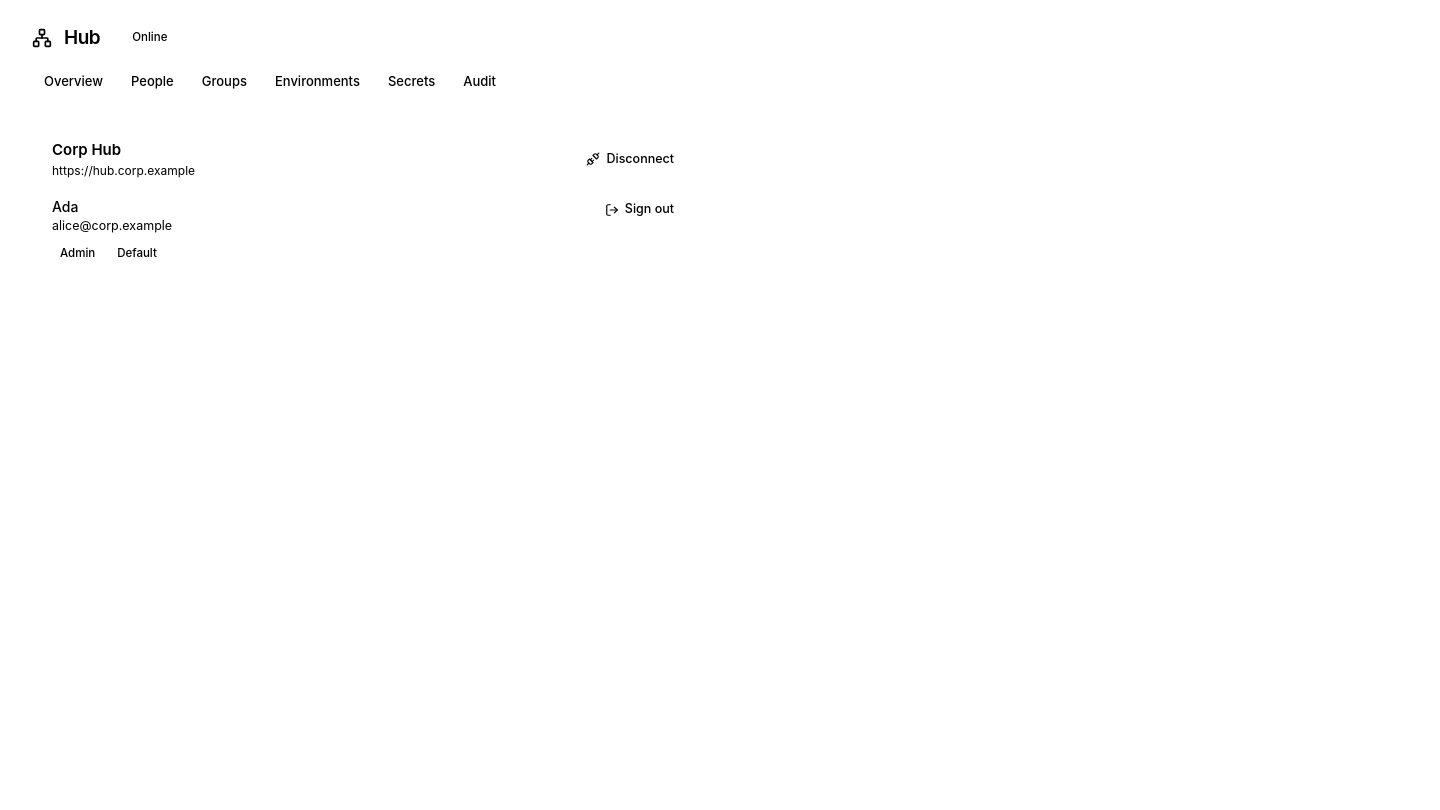
Test case: HubPage › a last_group 409 surfaces its message
The width and height of the screenshot is (1440, 810).
Click the tab "Groups": (224, 82) x1=190 y1=64 x2=259 y2=100
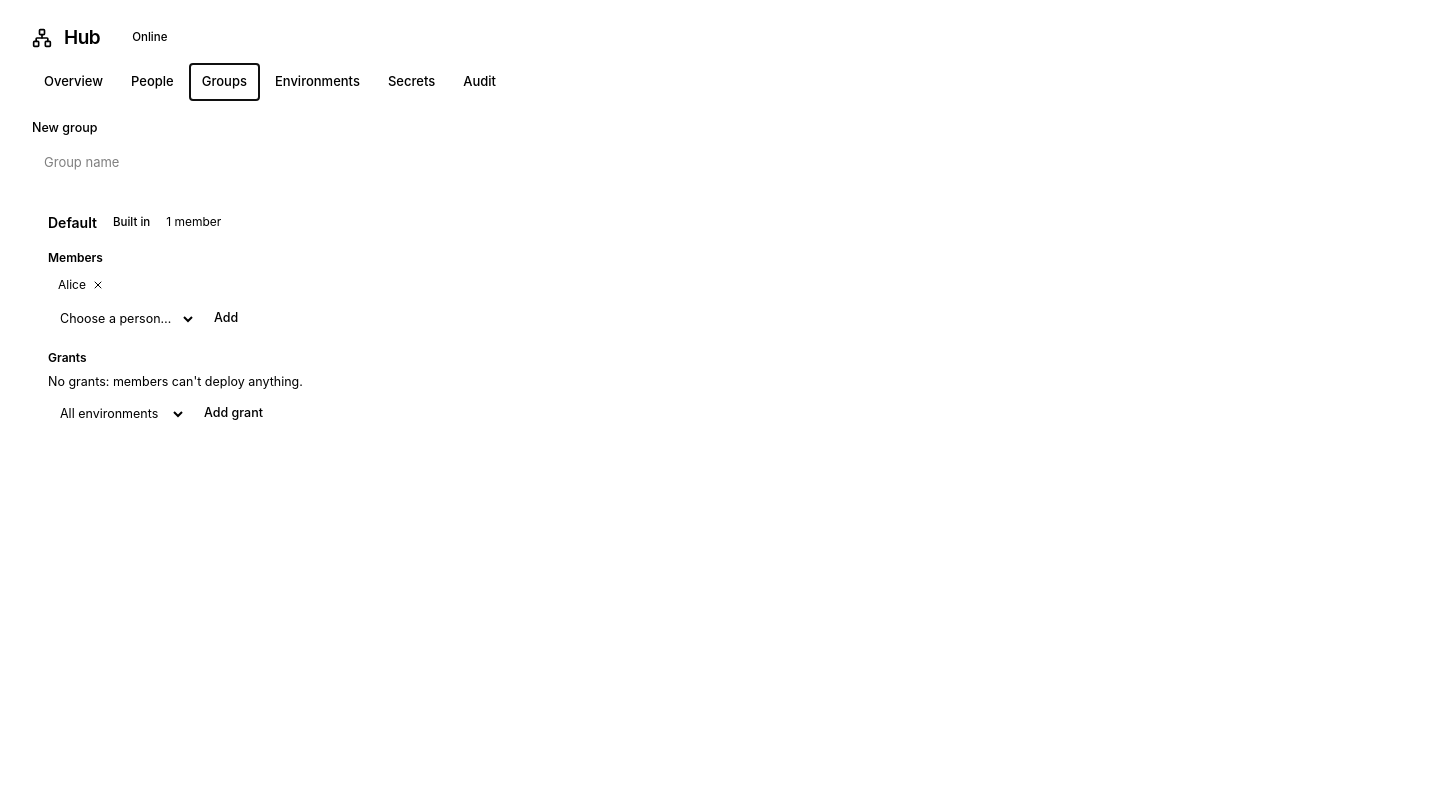
Click the button named "Remove Alice from Default": (98, 285) x1=90 y1=277 x2=106 y2=293
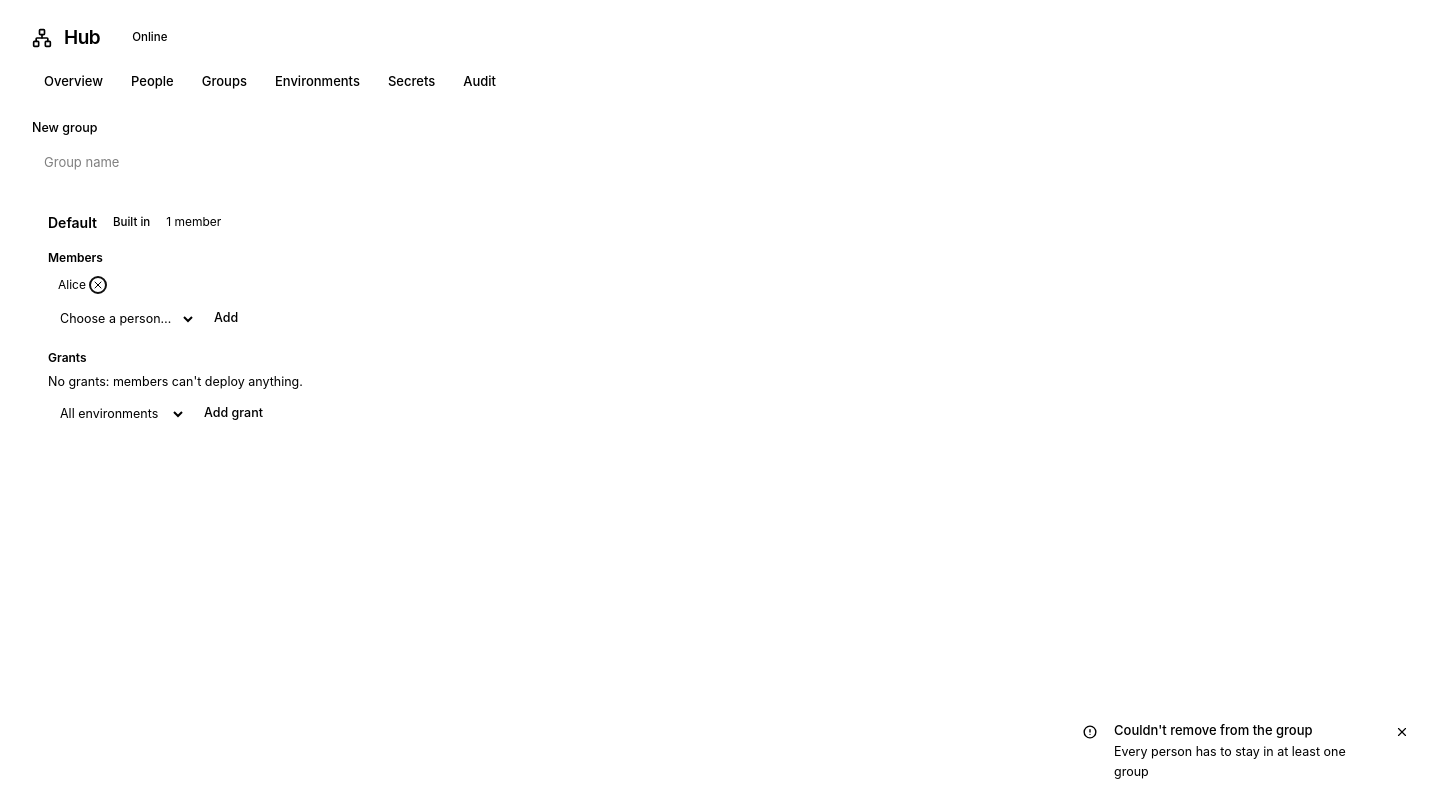
Expected: the text "Every person has to stay in at least one group" is shown, x1=1114 y1=742 x2=1376 y2=782
